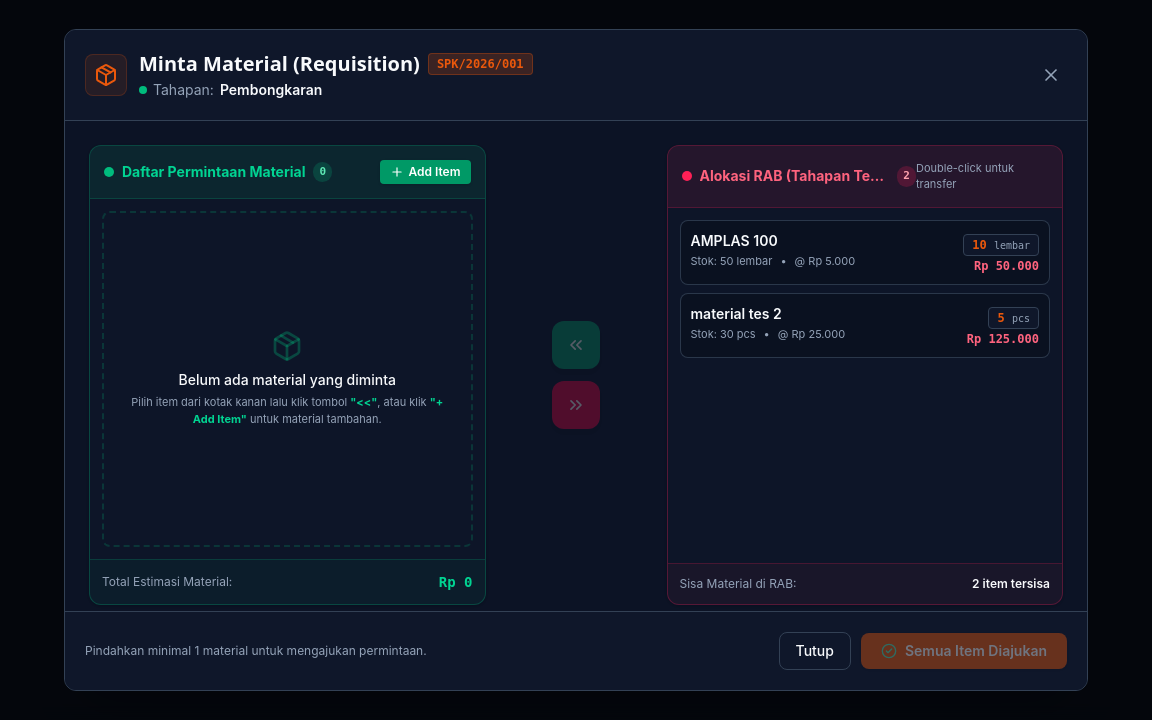
Component: MaterialRequisitionForm (Strict MATERIAL Filter) › transfers item to left list on double click and decrements counter badge
Check: the text "AMPLAS 100" is shown, box 690,231 -> 778,251
Double-click the text "AMPLAS 100" at (865, 252), box 680,220 -> 1050,285
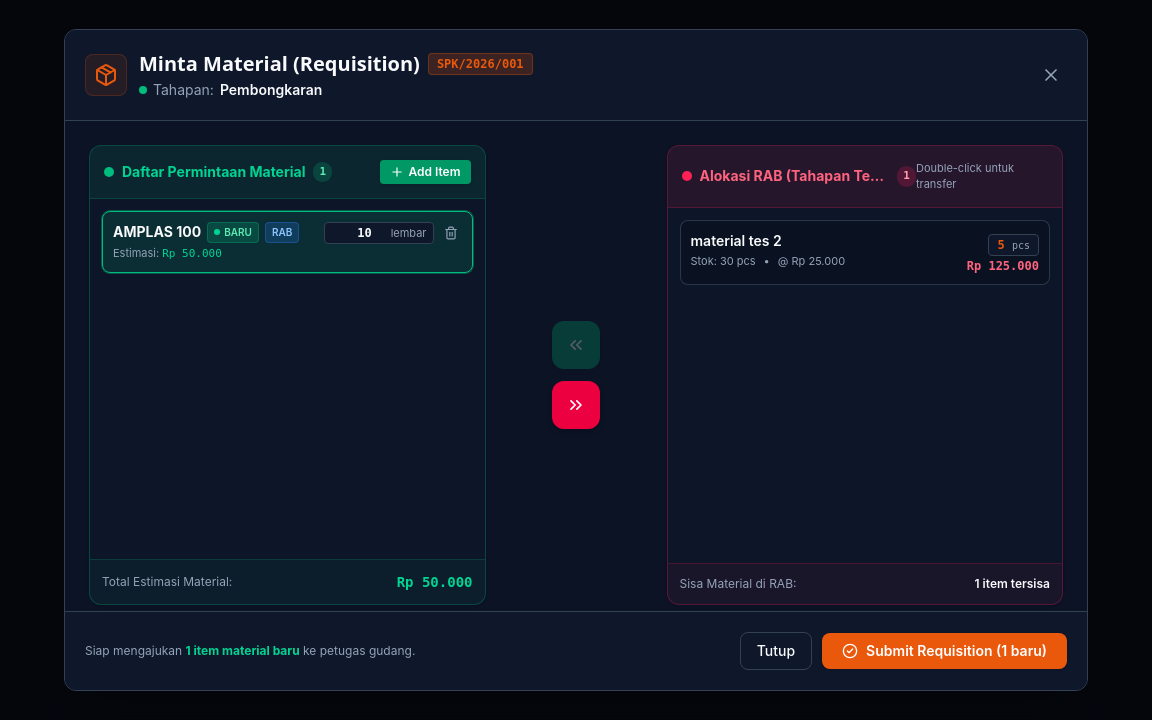
Check: the text "1" next to "Alokasi RAB (Tahapan Terkait)" is shown, box 903,169 -> 910,182
Check: the text "Siap mengajukan 1 item material baru ke petugas gudang." is shown, box 85,643 -> 415,658
